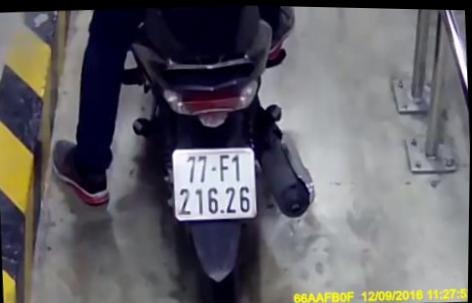LP: (169, 143, 263, 223)
